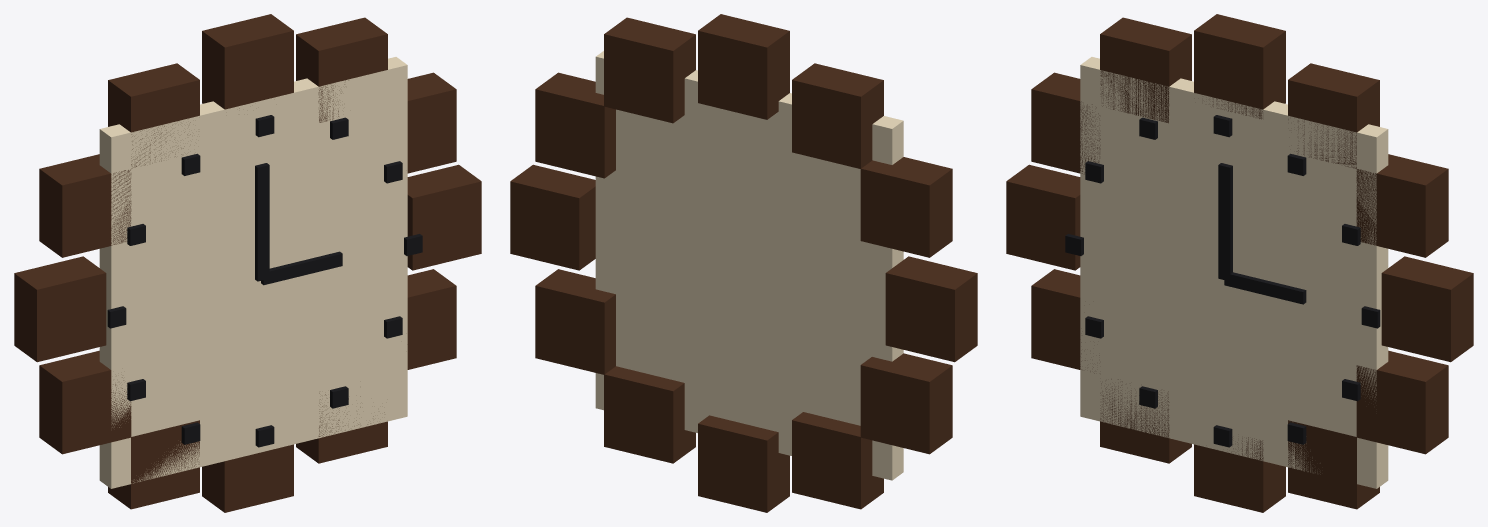
File: wall_clock.obj
The picture shows the model from 3 angles, left to right: view 1: azimuth 30°, elevation 25°; view 2: azimuth 150°, elevation 25°; view 3: azimuth 330°, elevation 25°; orthographic projection.
Parts seen in each view (by area): view 1: wall_clock; view 2: wall_clock; view 3: wall_clock.
Boxes of the visible parts, box(x1,y1,x2,y2) form: wall_clock: box(14, 14, 481, 512); wall_clock: box(510, 14, 977, 512); wall_clock: box(1006, 14, 1473, 512).
Size of the model in its own units: 0.45 by 0.45 by 0.0525.
